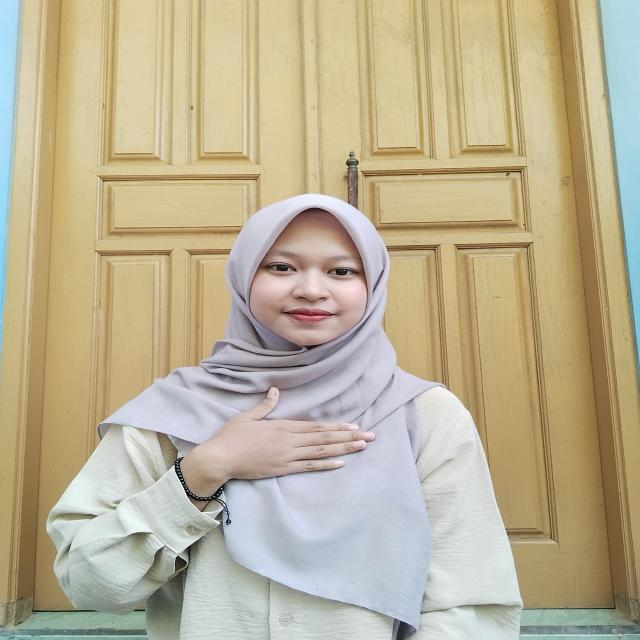tolong: (152, 381, 388, 526)
